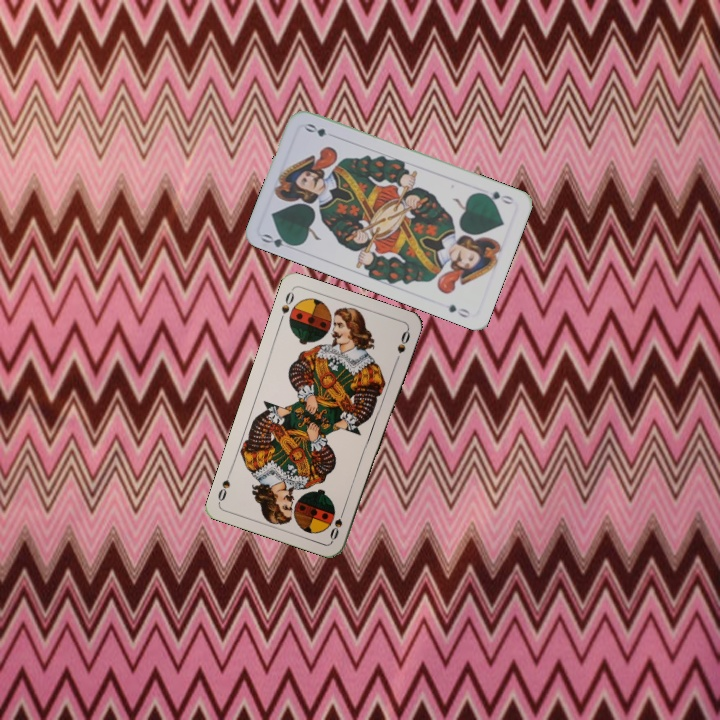GO: (258, 230, 299, 250), (477, 187, 517, 207)
SO: (326, 503, 348, 543), (275, 287, 297, 326)
